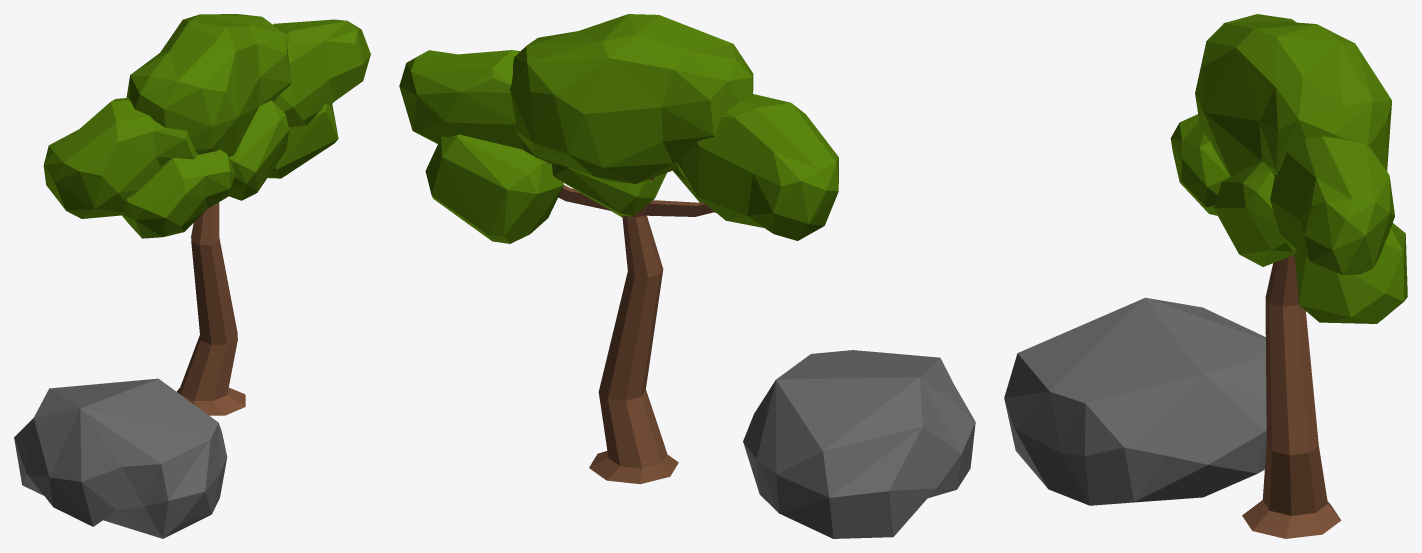
File: arbol 2.fbx
3 renders of one model, left to right at view 1: azimuth 30°, elevation 25°; view 2: azimuth 150°, elevation 25°; view 3: azimuth 270°, elevation 25°, orthographic. The views are drawn at different scales.
Visible parts, largest first — view 1: arbol_2; view 2: arbol_2; view 3: arbol_2.
Boxes of the visible parts, x1,y1,x2,y2 form: arbol_2: [14, 14, 370, 538]; arbol_2: [399, 14, 975, 538]; arbol_2: [1004, 14, 1407, 538].
Size of the model in its own units: 736 by 711 by 500.
